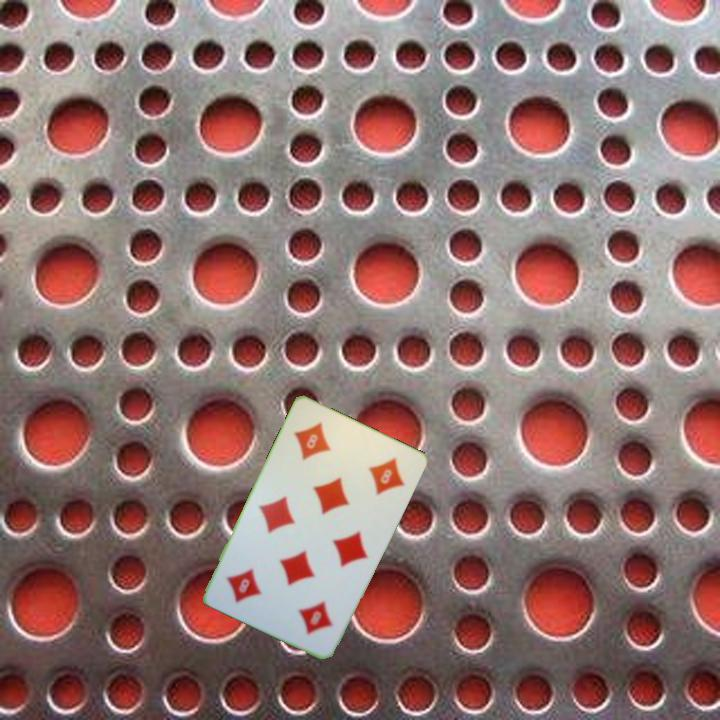d_8.png: (278, 406, 362, 485), (267, 571, 350, 650)
